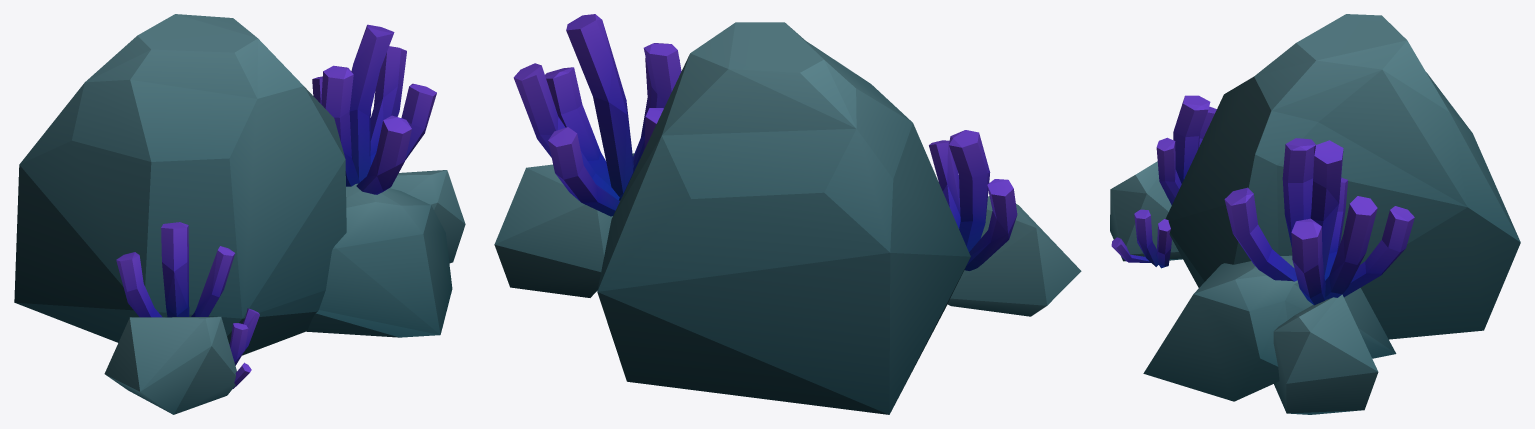
File: stone_big_corals_purple.fbx
3 renders of one model, left to right at view 1: azimuth 30°, elevation 25°; view 2: azimuth 150°, elevation 25°; view 3: azimuth 270°, elevation 25°, orthographic. The views are drawn at different scales.
Parts seen in each view (by area): view 1: stone_big_corals_purple; view 2: stone_big_corals_purple; view 3: stone_big_corals_purple.
Boxes of the visible parts, <box> form: stone_big_corals_purple: <box>14,14,465,414</box>; stone_big_corals_purple: <box>494,14,1081,414</box>; stone_big_corals_purple: <box>1110,14,1520,414</box>.
Bounding box in the file's own units: 2.13 × 1.31 × 1.83.
